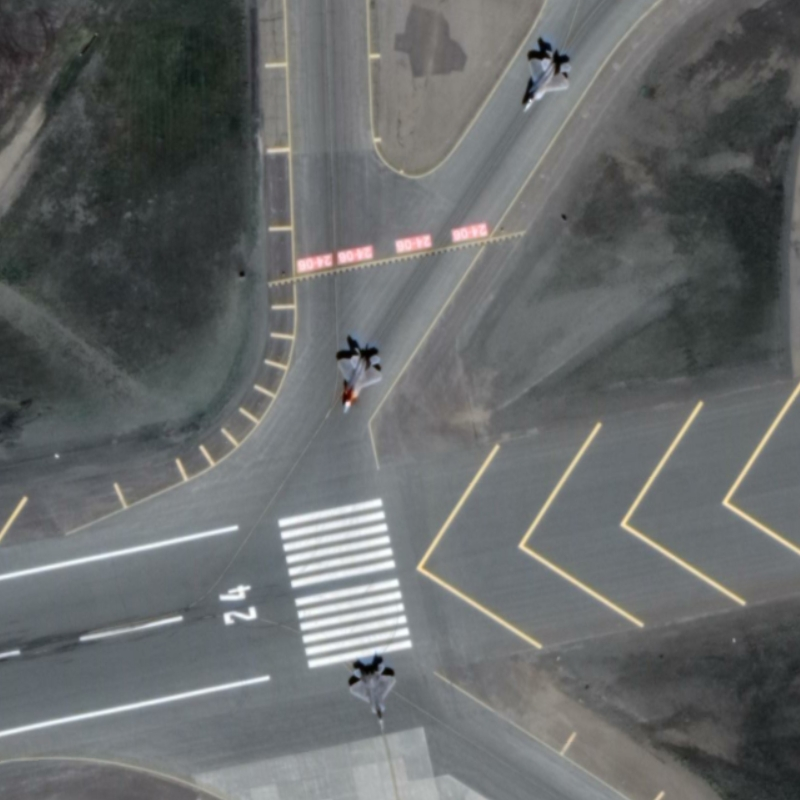A15: (516, 38, 575, 118), (330, 337, 387, 418), (343, 656, 402, 734)
